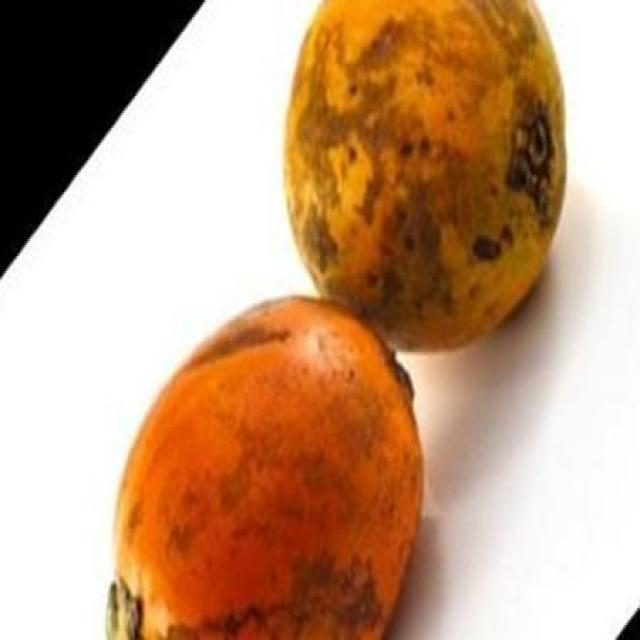good: (105, 297, 425, 638), (282, 0, 566, 354)
